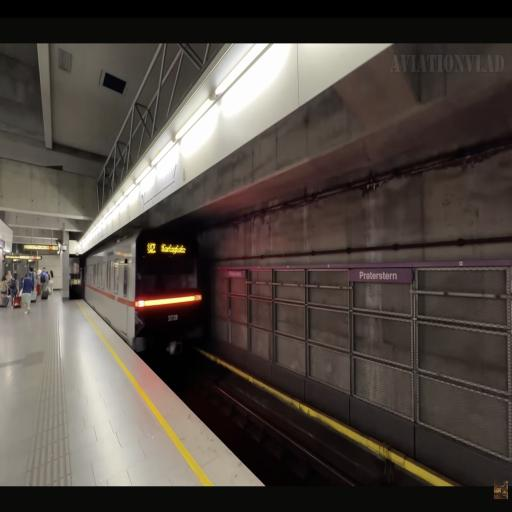X-Wagen: (84, 231, 203, 359)
